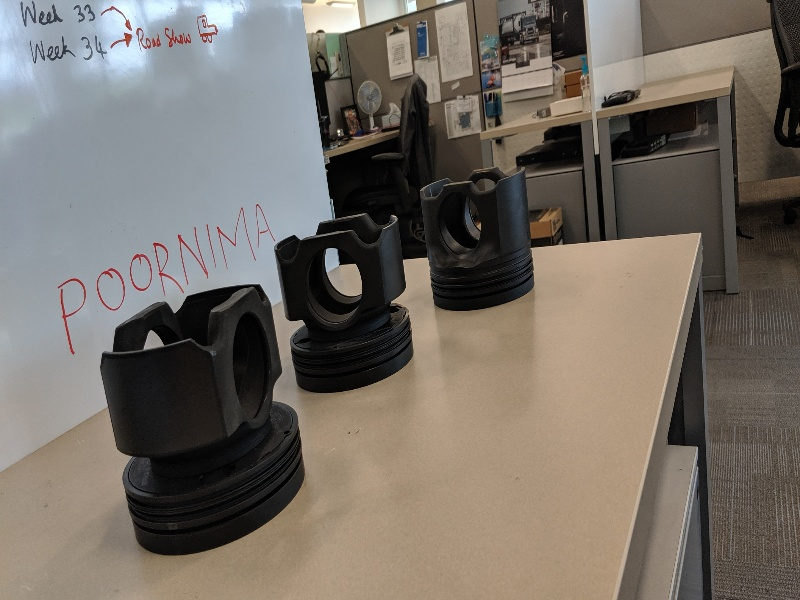piston: (93, 281, 312, 559), (269, 206, 421, 397), (415, 166, 539, 318)
